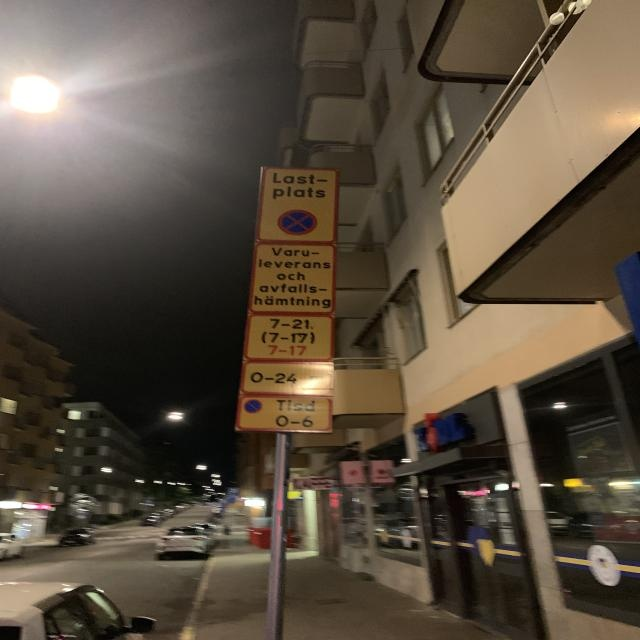lastplats: (255, 166, 340, 246)
